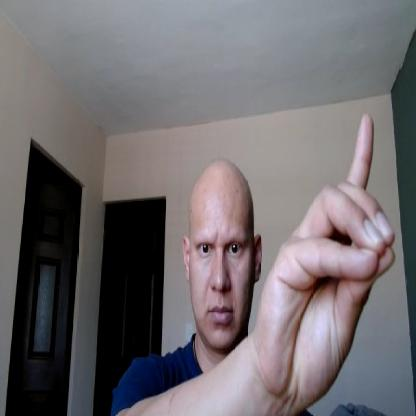D: (257, 112, 397, 407)
